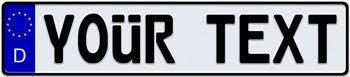E: (238, 12, 271, 65)
O: (78, 13, 109, 64)
R: (144, 13, 176, 65)
T: (307, 13, 339, 65), (205, 13, 236, 65)
X: (272, 13, 305, 64)
Y: (42, 13, 76, 65)
ue: (111, 13, 141, 64)
